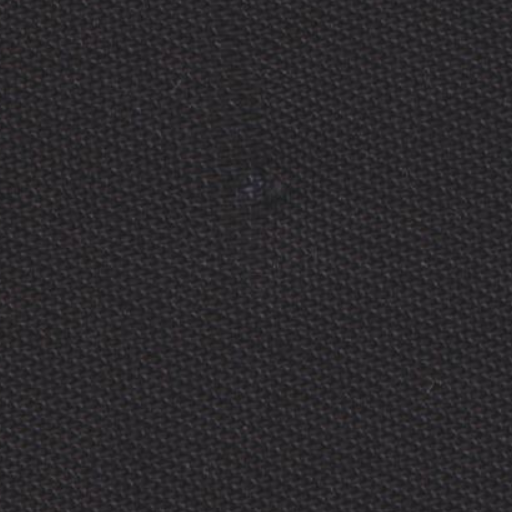PoDong: (229, 158, 296, 267)
